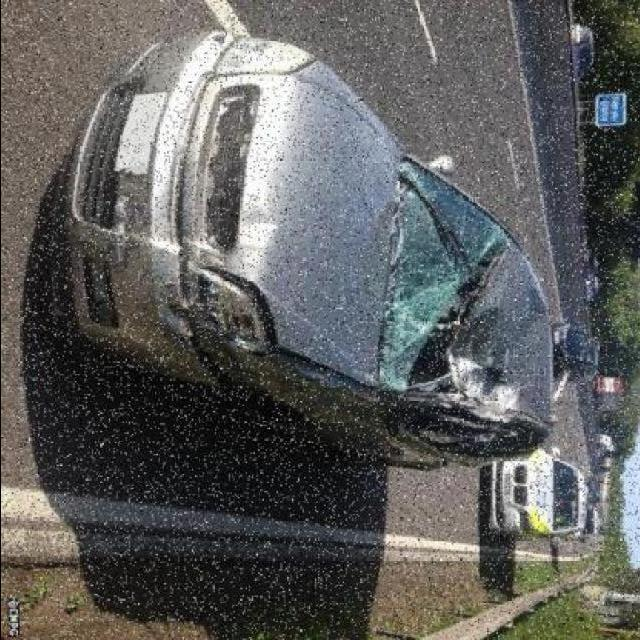Front-Windscreen-Damage: (377, 165, 495, 398)
Headlight-Damage: (161, 248, 297, 375)
bonnet-dent: (219, 59, 363, 385)
front-bumper-dent: (53, 49, 169, 350)
roof-dent: (454, 232, 558, 445)
